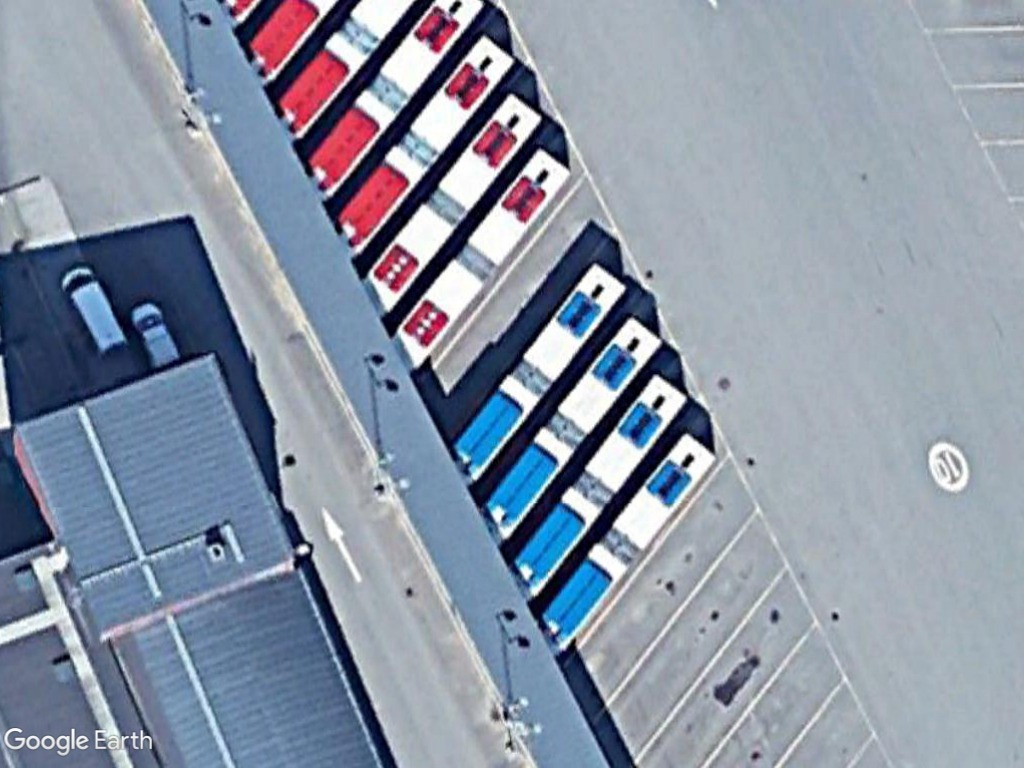bus: (388, 141, 579, 368), (479, 313, 668, 541), (536, 422, 719, 656), (506, 366, 689, 600), (362, 84, 543, 313), (450, 255, 629, 482), (337, 30, 514, 246)
van: (50, 259, 133, 358), (129, 295, 186, 371)
